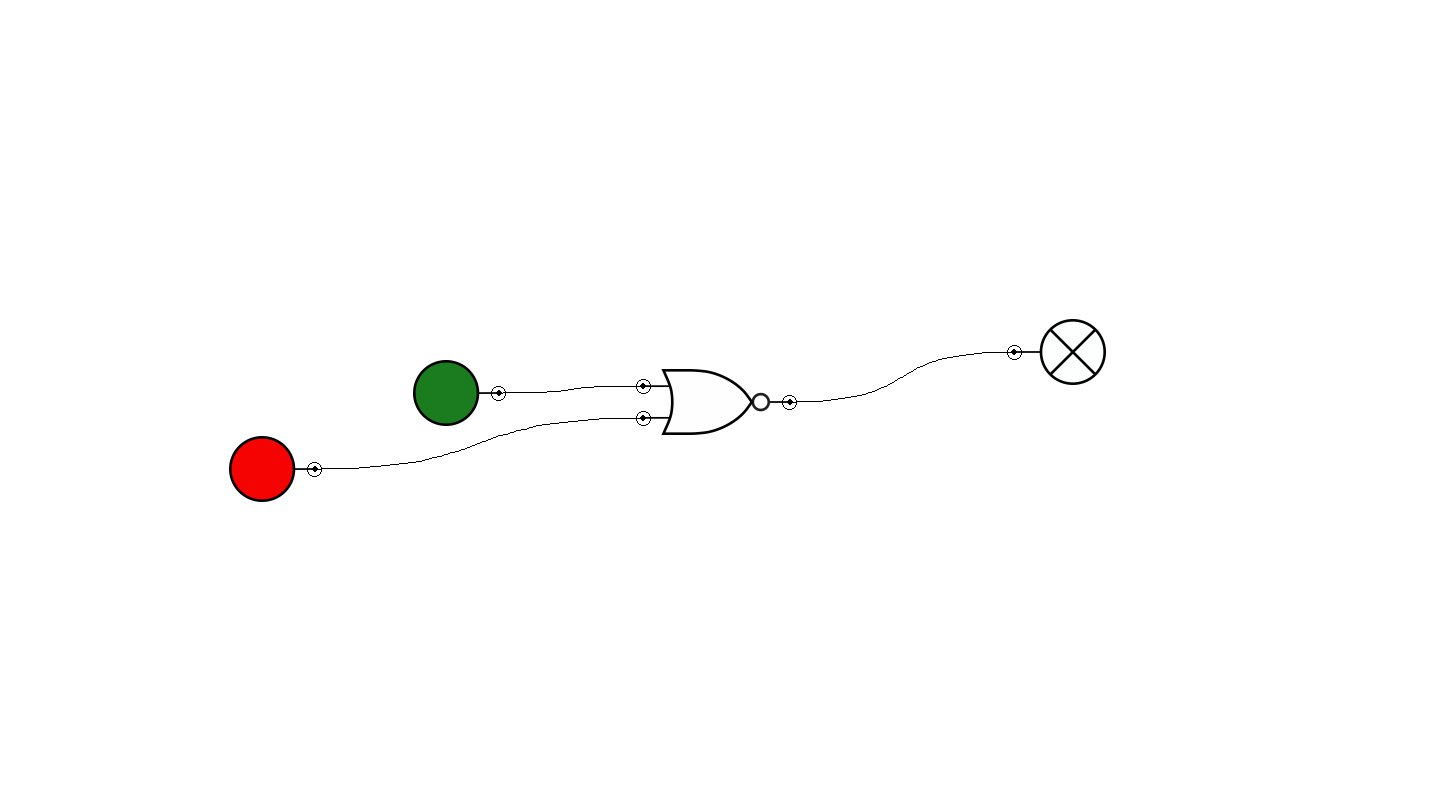bulb: (1007, 319, 1106, 385)
nor: (636, 369, 797, 435)
switch_False: (229, 436, 322, 502)
switch_True: (413, 360, 506, 426)
